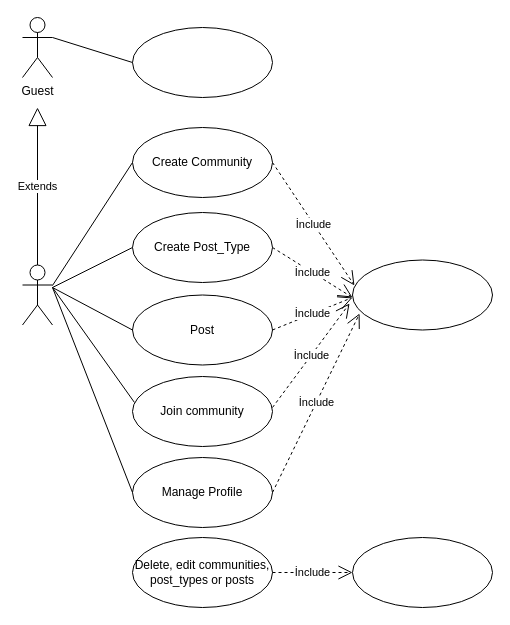
This 510x625 diagram has some shape labels left out. The box of each missing label's shape, as (x1, y1, x2, y2) in pixels:
Actor: (22, 264, 52, 325)
Login: (352, 259, 492, 330)
Read Posts, show communities: (132, 26, 272, 98)
Validate user whether builder or not: (352, 536, 492, 608)
